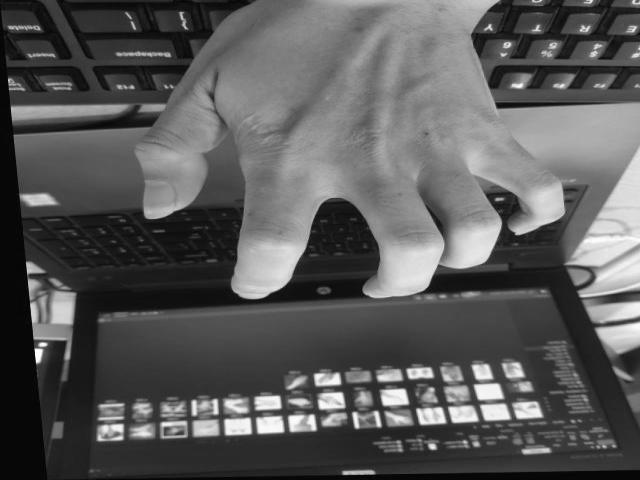not-gloved: (137, 0, 567, 298)
